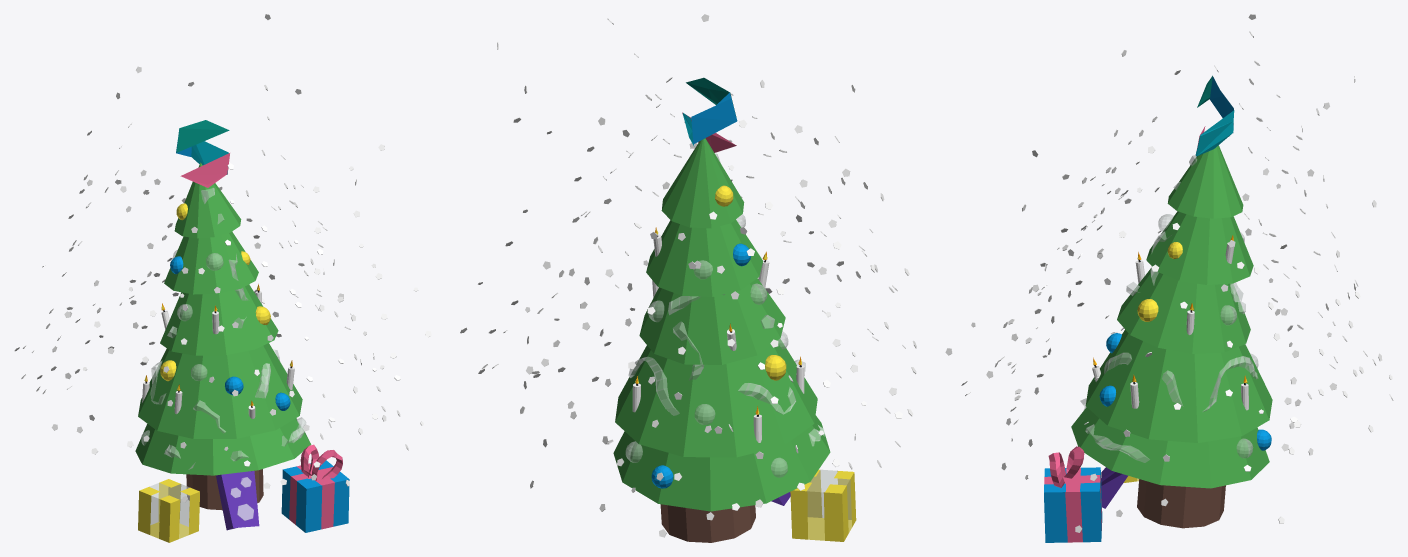
Rendered from tree_nine.obj.
The picture shows the model from 3 angles, left to right: view 1: azimuth 30°, elevation 25°; view 2: azimuth 150°, elevation 25°; view 3: azimuth 270°, elevation 25°; orthographic projection. The views are drawn at different scales.
Visible parts, largest first — view 1: group1023009160, group1663123492, group674878503, group1071424960, group878263752, group964196966, group1913399560, group1091044, group1015438779, group721375883, group706256817, group1073123530; view 2: group1023009160, group1663123492, group674878503, group1071424960, group1913399560, group964196966, group1015438779, group1412501535, group295649662, group331450709, group721375883; view 3: group1023009160, group1663123492, group674878503, group1071424960, group878263752, group1913399560, group1015438779, group295649662, group1073123530, group1091044, group728395514.
Part boxes in pixels (box(x1,y1,x2,y2)): group1023009160: box(138, 343, 302, 438); group1663123492: box(135, 418, 311, 475); group674878503: box(160, 284, 278, 355); group1071424960: box(164, 231, 258, 294); group878263752: box(281, 460, 349, 532); group964196966: box(138, 479, 199, 542); group1913399560: box(174, 162, 241, 238); group1091044: box(216, 471, 259, 530); group1015438779: box(186, 469, 263, 510); group721375883: box(176, 120, 229, 152); group706256817: box(180, 153, 229, 187); group1073123530: box(191, 141, 228, 174); group1023009160: box(615, 338, 817, 457); group1663123492: box(613, 415, 830, 511); group674878503: box(639, 278, 785, 364); group1071424960: box(646, 219, 762, 296); group1913399560: box(661, 138, 744, 228); group964196966: box(790, 469, 856, 541); group1015438779: box(660, 504, 755, 542); group1412501535: box(691, 92, 737, 144); group295649662: box(628, 357, 679, 415); group331450709: box(738, 383, 795, 414); group721375883: box(686, 77, 736, 116); group1023009160: box(1085, 329, 1272, 442); group1663123492: box(1071, 407, 1269, 488); group674878503: box(1117, 268, 1250, 353); group1071424960: box(1146, 211, 1253, 284); group878263752: box(1044, 467, 1102, 542); group1913399560: box(1167, 145, 1243, 218); group1015438779: box(1137, 479, 1225, 528); group295649662: box(1104, 352, 1258, 411); group1073123530: box(1195, 110, 1234, 156); group1091044: box(1101, 467, 1127, 508); group728395514: box(1085, 424, 1149, 462).
Bounding box in the file's own units: 3.23 × 3.8 × 3.28.
